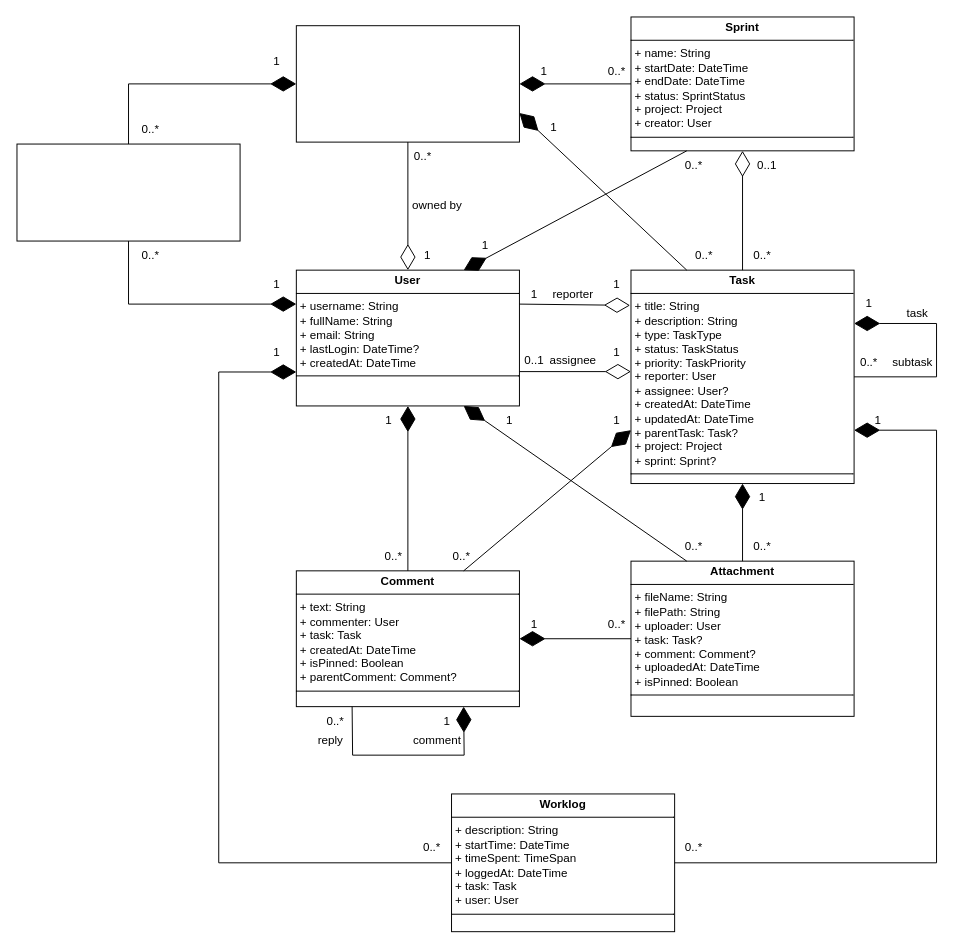
The diagram is 979 pixels wide and 949 high, and some of its shapes have lost their labels. Here are the shapes that lost their labels. From the top down, the box of each, then its label:
(295, 25, 519, 142): Project + name: String + description: String + owner: User + createdAt: DateTime
(16, 143, 240, 241): ProjectUser + user: User + project: Project + role: UserRole
